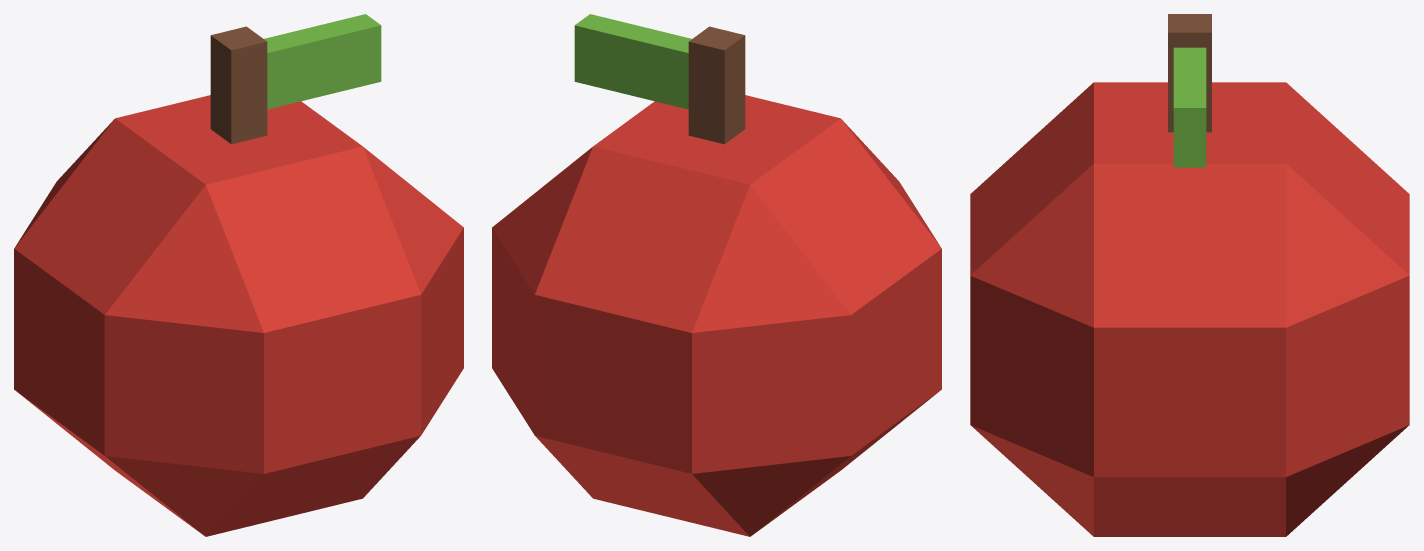
Rendered from apple.glb.
3 views of the same model, side by side, from view 1: azimuth 30°, elevation 25°; view 2: azimuth 150°, elevation 25°; view 3: azimuth 270°, elevation 25° (orthographic). The views are drawn at different scales.
Parts seen in each view (by area): view 1: apple; view 2: apple; view 3: apple.
Part boxes in pixels (x1,y1,x2,y2): apple: (14,14,463,536); apple: (492,14,941,536); apple: (970,14,1409,536).
Size of the model in its own units: 0.08 by 0.095 by 0.08.
Materials: 1 (1 with a texture image).
